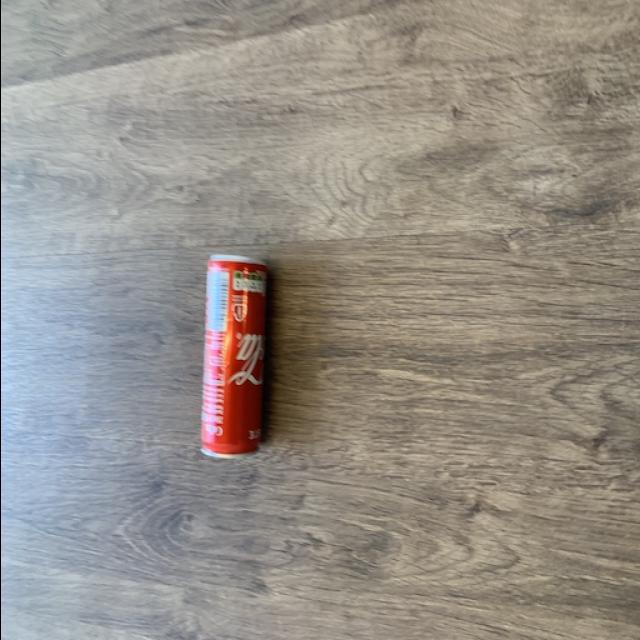Aluminum Can: (174, 242, 288, 488)
